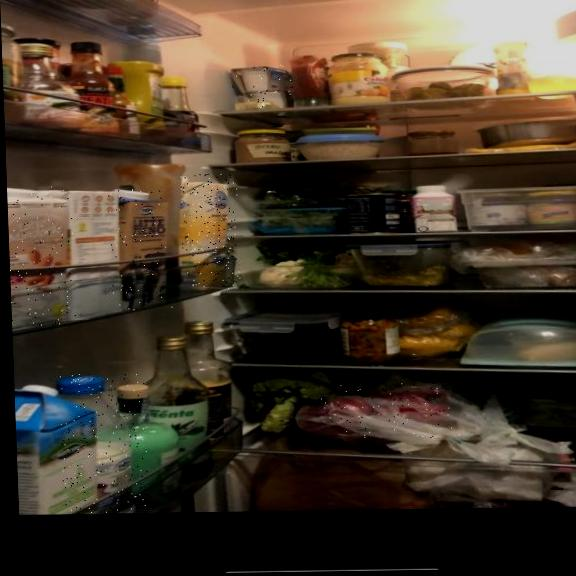milk: (59, 373, 149, 516), (7, 185, 76, 328), (106, 188, 177, 313), (180, 174, 242, 290)
tomatoes: (319, 383, 465, 441)
yoghurt: (226, 65, 297, 93), (245, 91, 293, 109)
